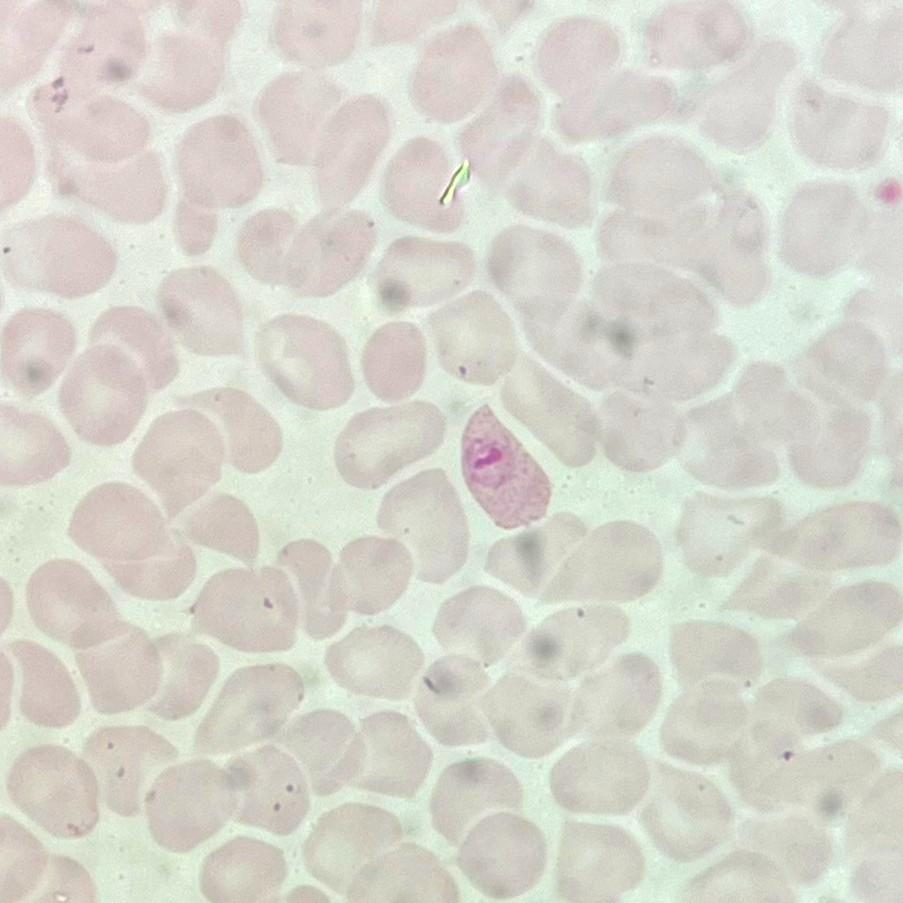Infected: (460, 403, 551, 528)
Uninfected: (676, 368, 804, 491), (65, 479, 195, 597), (241, 207, 377, 303), (688, 39, 800, 154), (500, 349, 603, 470), (761, 731, 883, 828), (601, 134, 725, 229), (453, 87, 552, 203), (536, 518, 663, 607), (36, 88, 161, 177), (483, 222, 586, 330), (371, 469, 470, 581), (46, 140, 169, 230), (56, 340, 161, 445), (130, 409, 235, 513), (49, 3, 155, 105), (186, 563, 304, 654), (777, 178, 880, 282), (2, 212, 119, 303), (765, 498, 899, 577), (192, 663, 308, 754), (684, 187, 773, 304), (254, 69, 356, 171), (253, 314, 359, 412), (523, 601, 641, 688), (530, 16, 626, 121), (786, 579, 903, 665), (333, 399, 447, 487), (797, 308, 894, 411), (675, 490, 786, 580), (135, 15, 235, 114), (635, 761, 737, 858), (171, 111, 266, 215), (491, 134, 592, 231), (406, 22, 502, 124), (564, 67, 683, 149), (788, 80, 892, 173), (306, 95, 393, 205), (184, 380, 284, 475), (559, 654, 661, 747), (145, 757, 247, 850), (471, 667, 575, 758), (589, 386, 696, 474), (154, 264, 252, 360), (80, 723, 176, 821), (375, 135, 470, 234), (70, 624, 171, 717), (82, 303, 178, 399), (302, 800, 409, 886), (660, 677, 762, 767), (333, 706, 432, 798), (7, 743, 99, 839), (23, 554, 118, 646), (484, 509, 584, 596), (272, 537, 353, 644), (426, 293, 519, 386), (781, 397, 875, 489), (428, 754, 527, 841), (372, 234, 478, 314), (745, 675, 841, 763), (547, 737, 650, 819), (429, 584, 526, 671), (447, 811, 544, 897), (642, 0, 751, 75), (326, 535, 419, 622), (325, 623, 426, 703), (547, 819, 644, 902), (276, 705, 369, 791), (225, 747, 313, 837), (817, 4, 903, 96), (730, 811, 833, 887), (174, 489, 270, 569), (6, 638, 86, 732), (411, 659, 499, 744), (817, 619, 903, 705), (138, 635, 222, 721), (665, 618, 764, 690), (1, 307, 79, 397), (268, 2, 369, 71), (846, 189, 903, 308), (197, 834, 293, 901), (1, 402, 72, 489), (360, 319, 431, 401), (366, 1, 465, 56), (175, 198, 227, 259), (221, 765, 250, 793)
